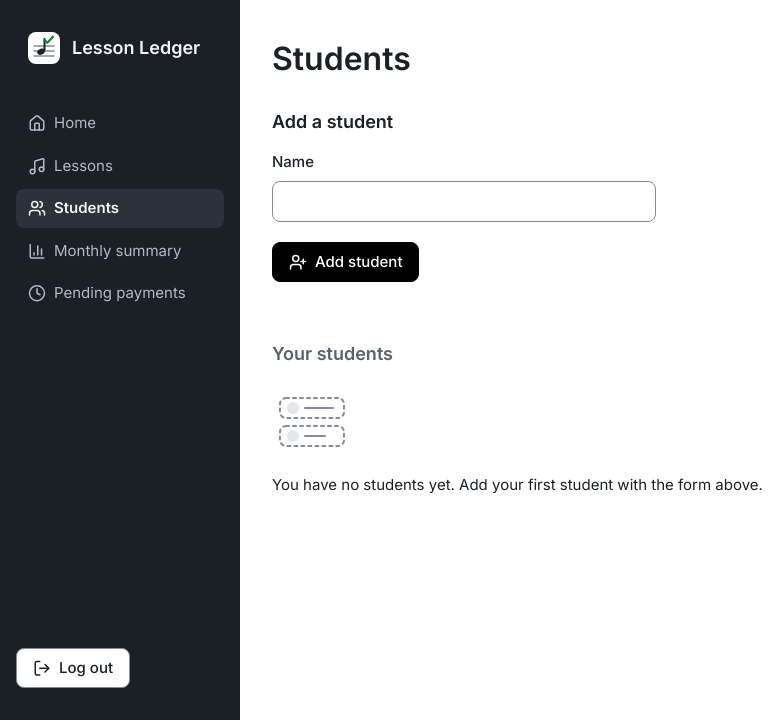
Scenario: AC-1 students page › rejects a name that is whitespace only without a request
Expected: the heading "Students" is shown, [272,39,411,78]
Expected: the text "You have no students yet. Add your first student with the form above." is shown, [272,476,763,494]
Click the field labelled "Name" at (464, 201), box [272,181,656,222]
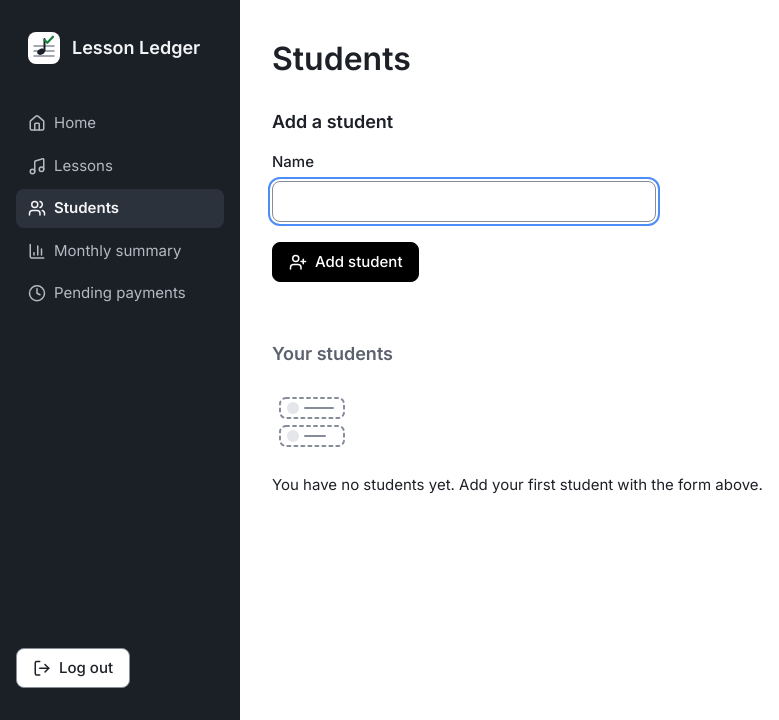
Type keys "   "
Click the button "Add student" at (346, 262), box [272,242,420,282]
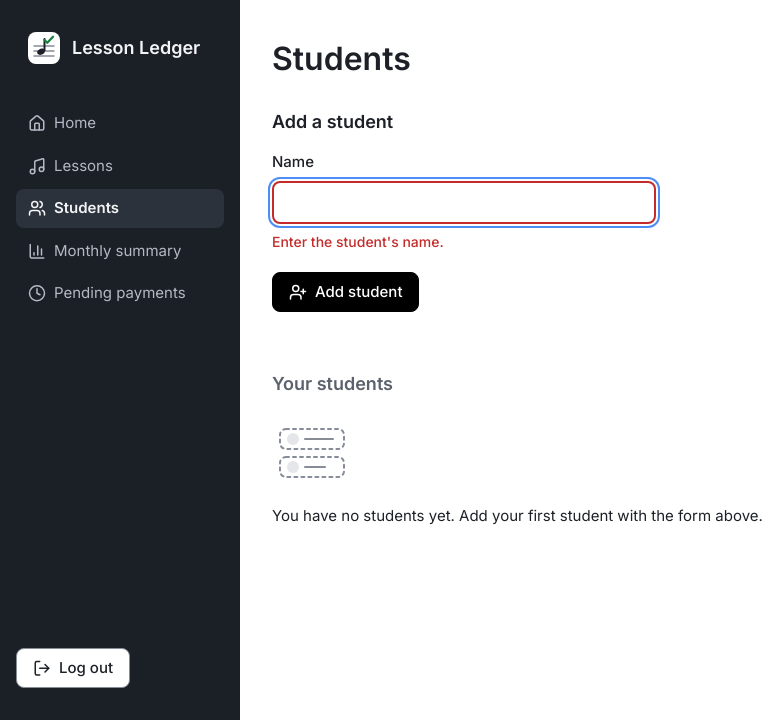
Type "a" into the field labelled "Name" at (464, 202), box [272,181,656,224]
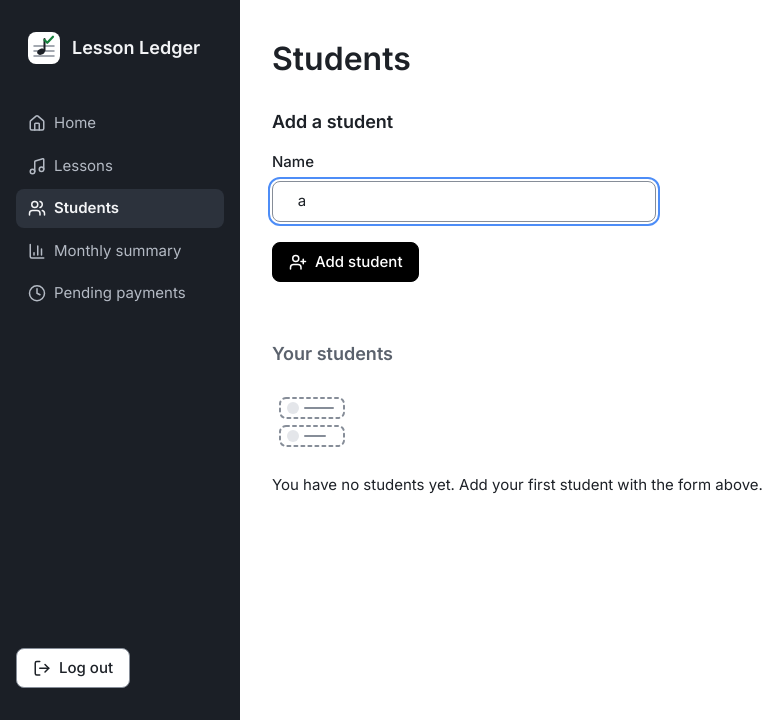
Expected: the text "Enter the student's name." is gone
